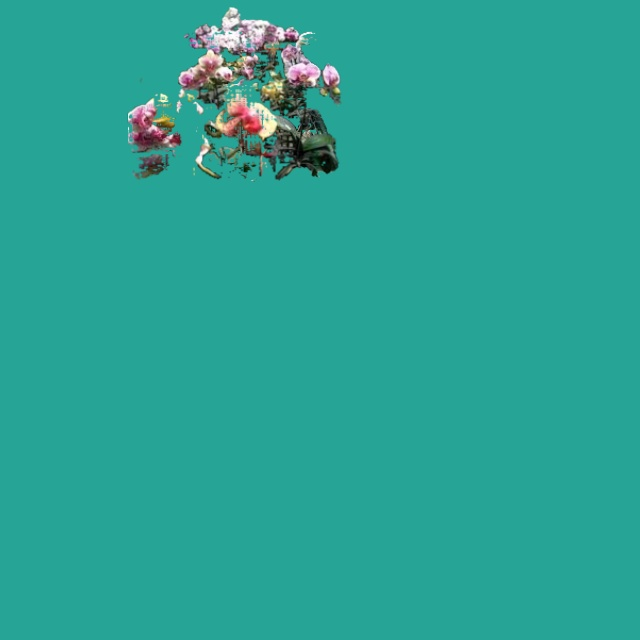orchid: (128, 7, 340, 180)
